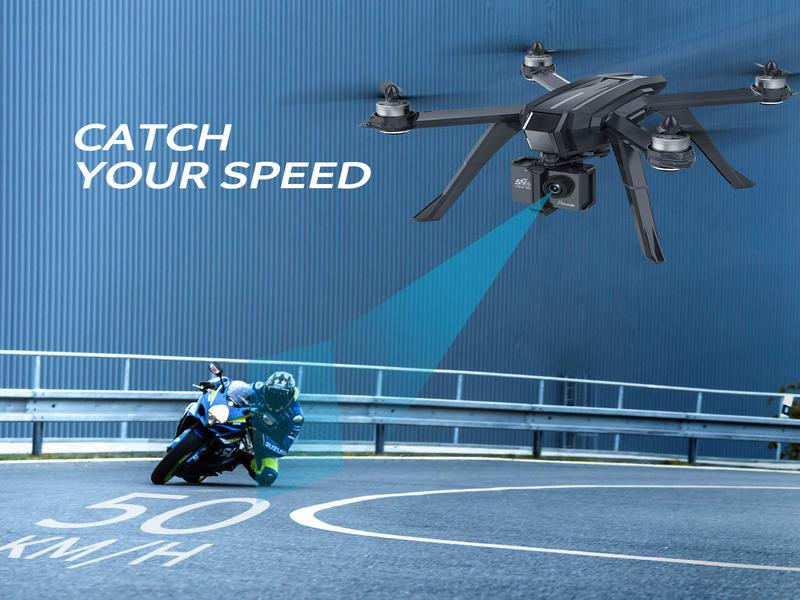enemy: (361, 40, 790, 262)
